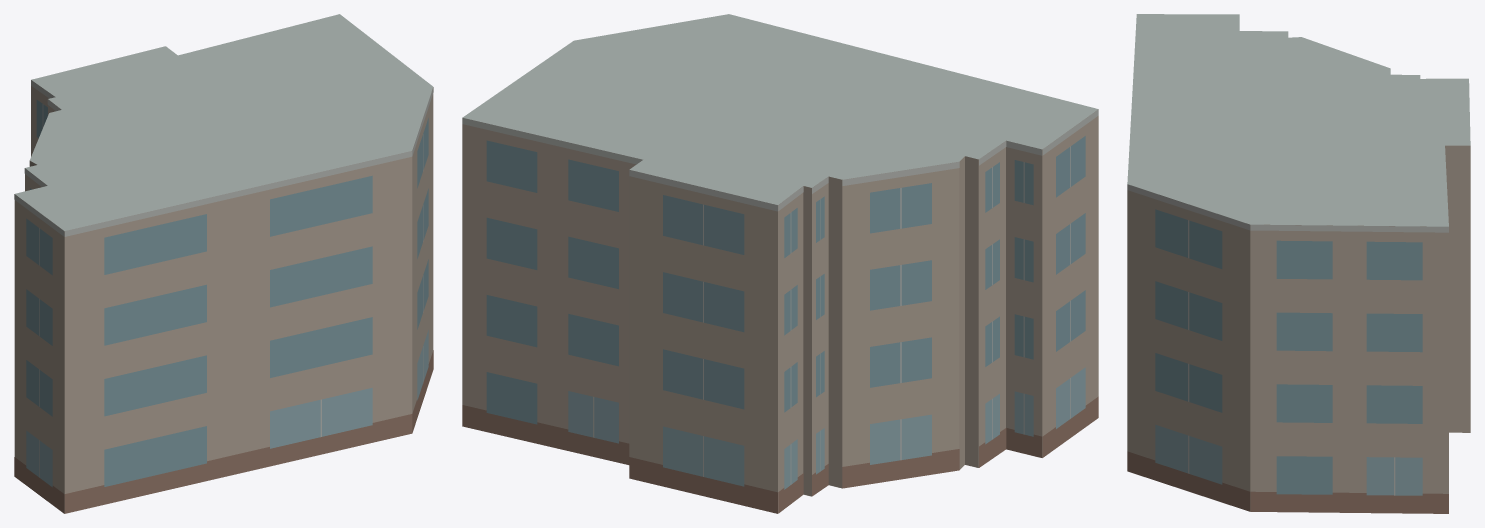
The model's file is survey-upis-32550703.glb.
3 renders of one model, left to right at view 1: azimuth 30°, elevation 25°; view 2: azimuth 150°, elevation 25°; view 3: azimuth 270°, elevation 25°, orthographic. The views are drawn at different scales.
Visible parts, largest first — view 1: survey-upis-32550703.tmp; view 2: survey-upis-32550703.tmp; view 3: survey-upis-32550703.tmp.
Part boxes in pixels (x1,y1,x2,y2): survey-upis-32550703.tmp: (14,14,433,513); survey-upis-32550703.tmp: (462,14,1098,513); survey-upis-32550703.tmp: (1127,14,1470,513).
Size of the model in its own units: 18.75 by 11.8 by 12.79.
